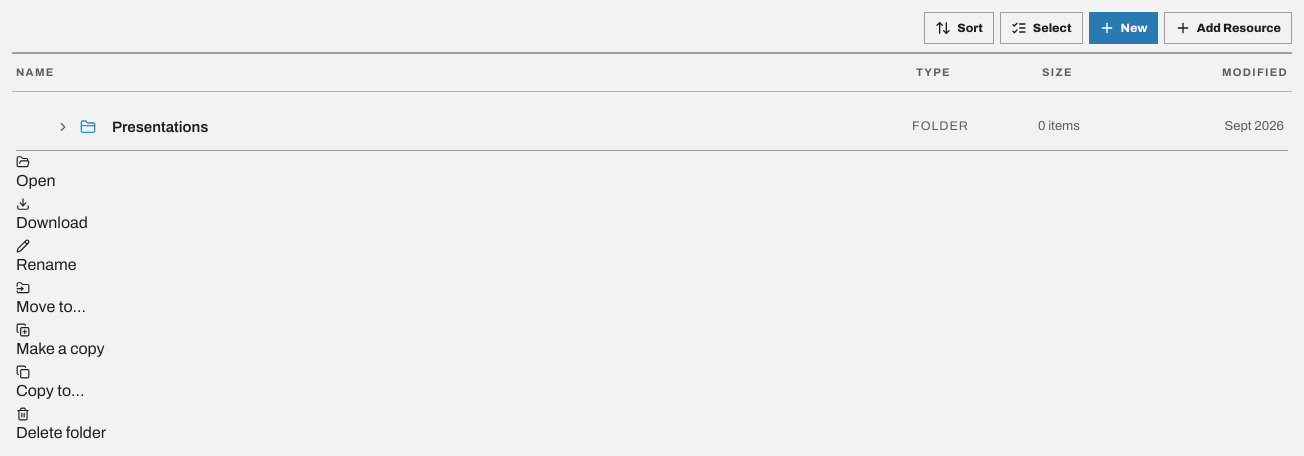
it: DriveBrowser › opens a folder when it is clicked (canManage: true)
Click the text "Presentations" at (160, 126), box top-left (112, 118), bottom-right (208, 134)
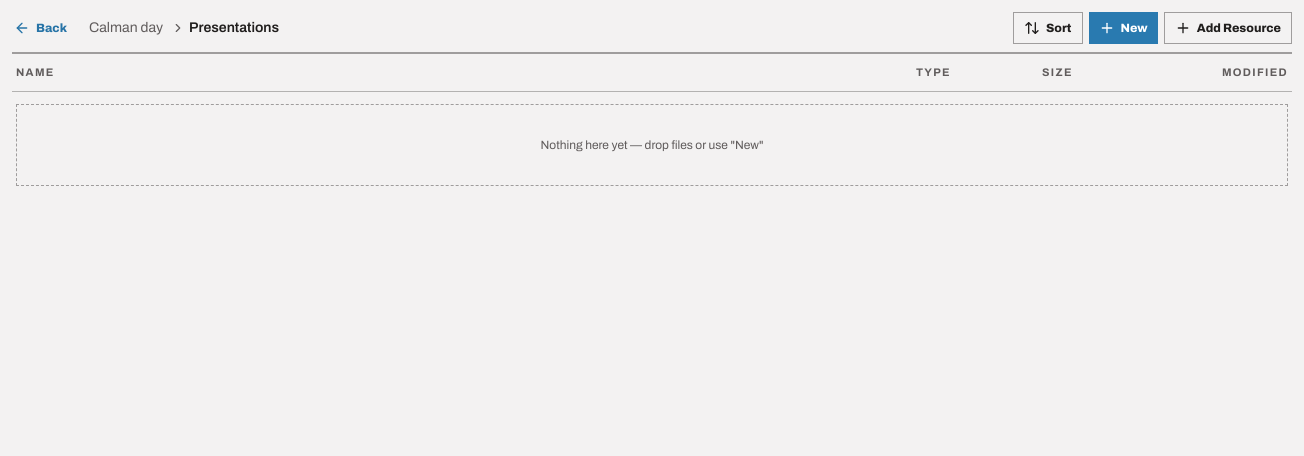
Now the navigation bar named "Folder path" shows "Calman day", box top-left (85, 18), bottom-right (167, 38)
Now the navigation bar named "Folder path" shows "Presentations", box top-left (189, 20), bottom-right (279, 35)
